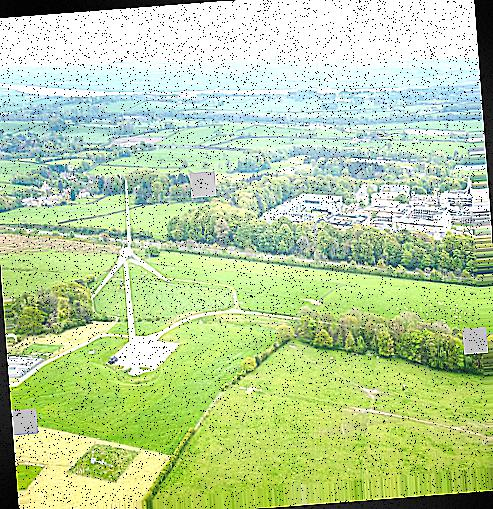wind turbine: (90, 177, 173, 344)
